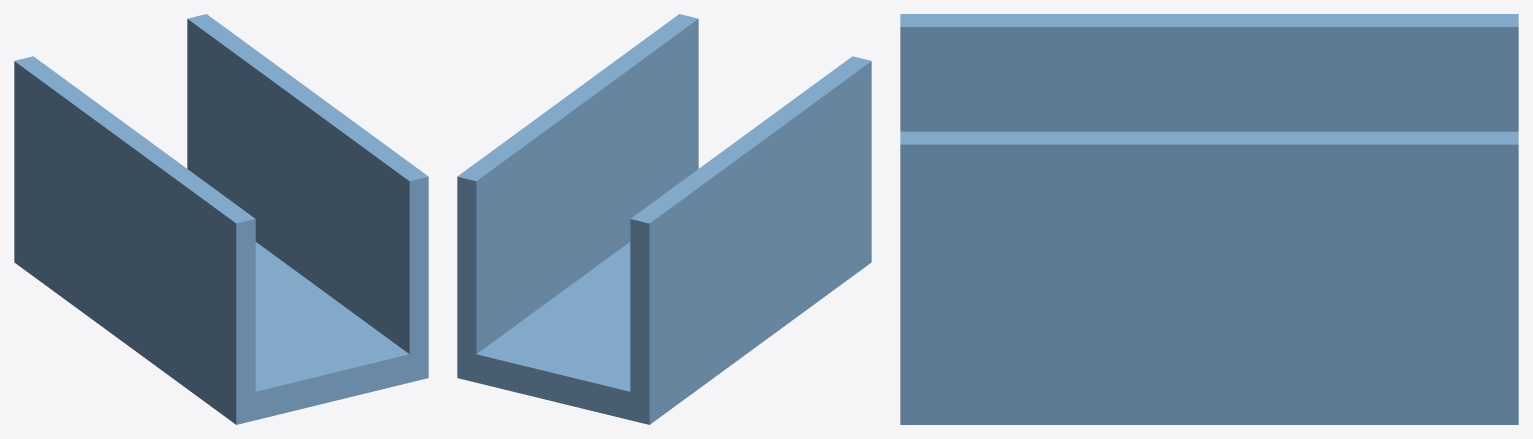
Rendered from Corner_Rail_B.fbx.
The picture shows the model from 3 angles, left to right: view 1: azimuth 30°, elevation 25°; view 2: azimuth 150°, elevation 25°; view 3: azimuth 270°, elevation 25°; orthographic projection. The views are drawn at different scales.
Visible parts, largest first — view 1: Corner_Rail_B; view 2: Corner_Rail_B; view 3: Corner_Rail_B.
Boxes of the visible parts, bbox=[...] form: Corner_Rail_B: bbox=[14, 14, 428, 424]; Corner_Rail_B: bbox=[457, 14, 871, 424]; Corner_Rail_B: bbox=[900, 14, 1518, 424].
Size of the model in its own units: 50 by 50 by 100.
